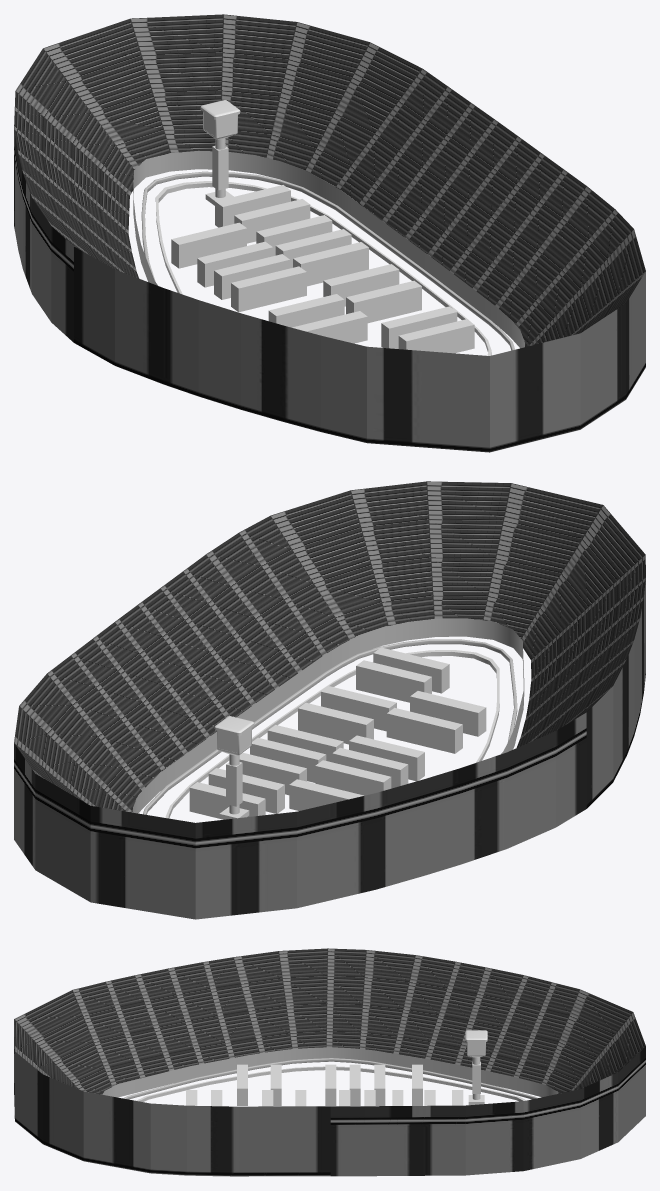
Rendered from Estadio Nascar.fbx.
3 views of the same model, one above another, from view 1: azimuth 30°, elevation 25°; view 2: azimuth 150°, elevation 25°; view 3: azimuth 270°, elevation 25° (orthographic). The views are drawn at different scales.
Parts seen in each view (by area): view 1: Grada, Estadio_fuera, Boxes, VerjasInvertedNormals, Muro_exterior, Muro_interior, Poste, Marcador, Verjas; view 2: Grada, Estadio_fuera, Boxes, VerjasInvertedNormals, Muro_exterior, Muro_interior, Poste, Marcador; view 3: Grada, Estadio_fuera, Verjas, Boxes, Muro_exterior, Muro_interior, Poste, Marcador.
Part boxes in pixels (left/top/right/bottom): Grada: left=14, top=14, right=645, bottom=346; Estadio_fuera: left=14, top=130, right=645, bottom=452; Boxes: left=171, top=185, right=474, bottom=353; VerjasInvertedNormals: left=133, top=150, right=524, bottom=348; Muro_exterior: left=141, top=171, right=514, bottom=350; Muro_interior: left=155, top=181, right=491, bottom=355; Poste: left=205, top=138, right=233, bottom=205; Marcador: left=200, top=100, right=240, bottom=139; Verjas: left=133, top=153, right=524, bottom=347; Grada: left=14, top=481, right=645, bottom=812; Estadio_fuera: left=14, top=579, right=645, bottom=919; Boxes: left=189, top=647, right=486, bottom=818; VerjasInvertedNormals: left=133, top=618, right=524, bottom=813; Muro_exterior: left=143, top=639, right=517, bottom=814; Muro_interior: left=165, top=650, right=499, bottom=818; Poste: left=219, top=754, right=249, bottom=819; Marcador: left=214, top=716, right=254, bottom=755; Grada: left=14, top=948, right=645, bottom=1094; Estadio_fuera: left=14, top=1025, right=645, bottom=1176; Verjas: left=102, top=1047, right=558, bottom=1097; Boxes: left=186, top=1064, right=463, bottom=1106; Muro_exterior: left=123, top=1058, right=537, bottom=1099; Muro_interior: left=136, top=1066, right=526, bottom=1101; Poste: left=468, top=1057, right=484, bottom=1105; Marcador: left=465, top=1030, right=487, bottom=1057.
Size of the model in its own units: 4640 by 1067 by 7841.
